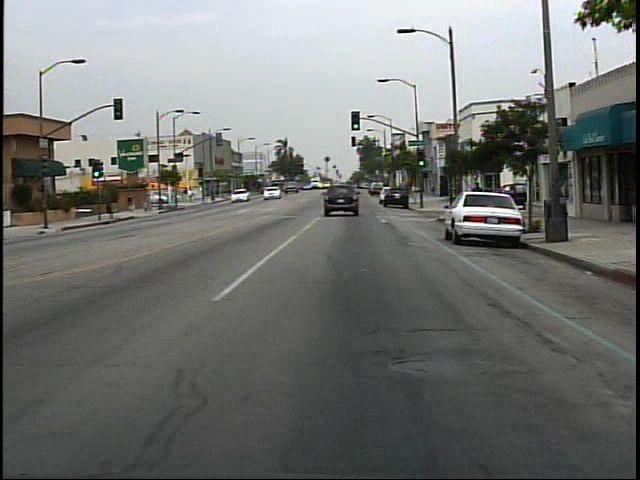person: (468, 178, 488, 217), (123, 192, 142, 221), (187, 187, 196, 206)
